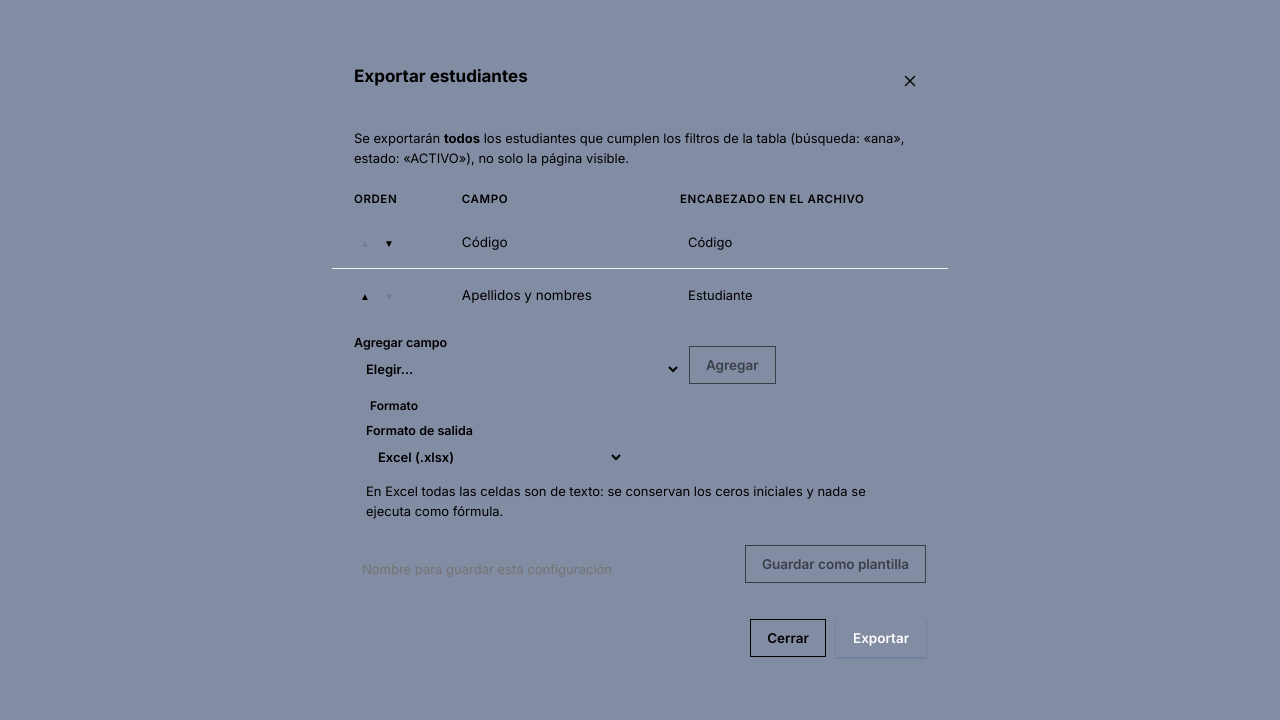
Exportación › parte de las columnas de la tabla, permite agregar, reordenar, renombrar y elegir formato; usa los filtros de la tabla
Expected: the field showing "Estudiante" is shown, [680,281,884,309]
Expected: the text "búsqueda: «ana», estado: «ACTIVO»" is shown, [354,130,905,166]
Select "Acciones (columna vacía de compatibilidad)" in the dropdown labelled "Agregar campo" at (518, 369), box [354,354,681,384]
Click the button "Agregar".
click(732, 365)  # box [689,346,776,384]
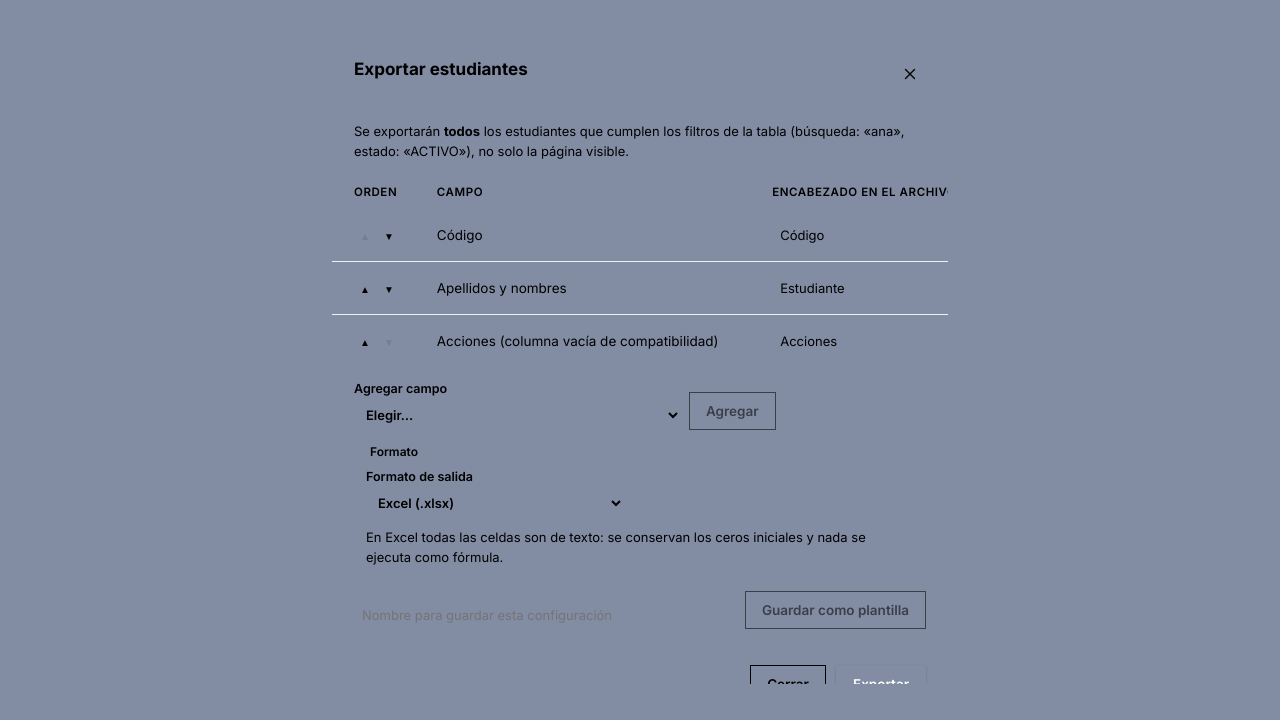
Click the button named "Subir Apellidos y nombres".
click(365, 289)  # box [354,282,376,296]
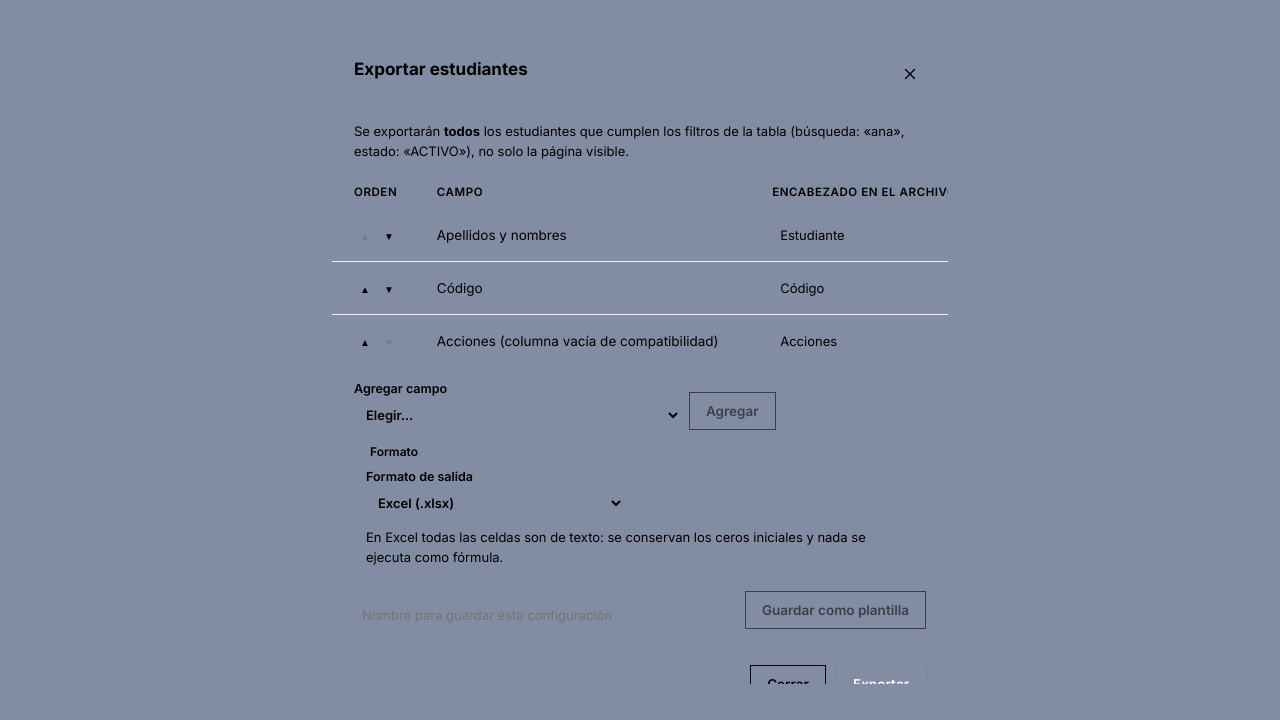
Replace the text in the field named "Encabezado de Código" with "Cód." at (874, 288), box [772,274,976,302]
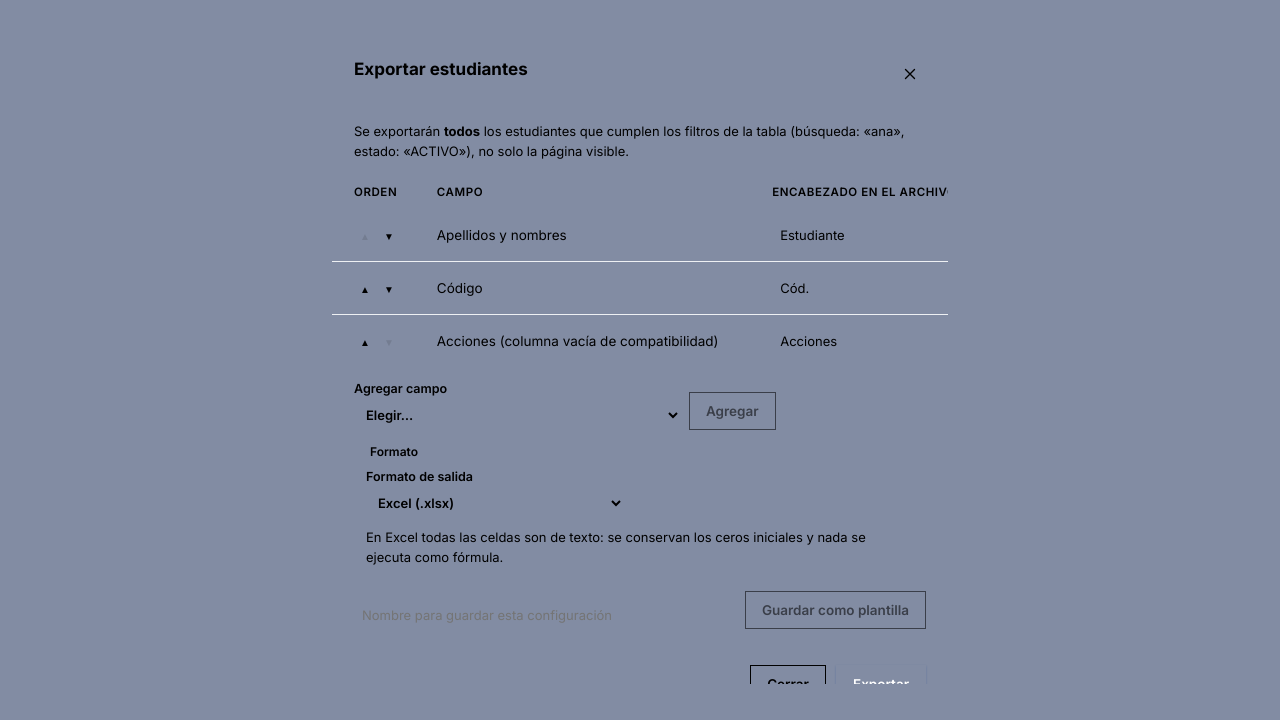
Select "CSV (.csv)" in the dropdown labelled "Formato de salida" at (495, 503), box [366,488,624,518]
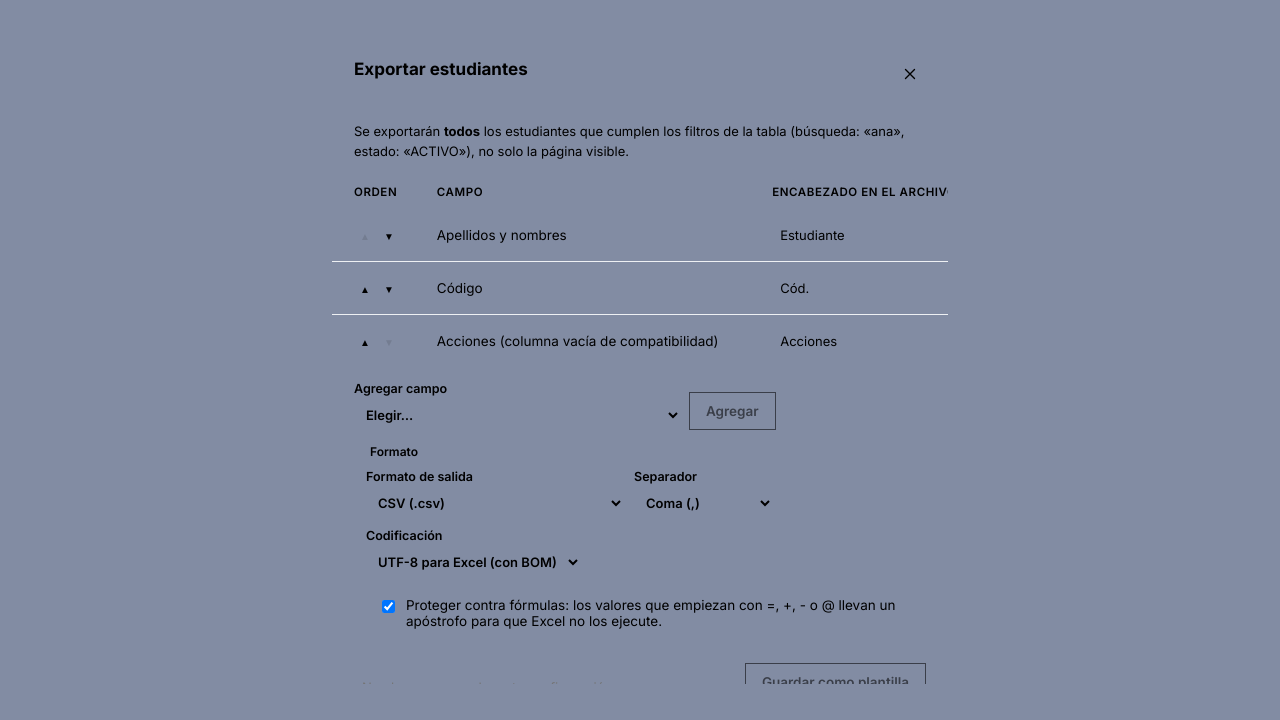
Select "Punto y coma (;)" in the dropdown labelled "Separador" at (704, 503), box [634,488,773,518]
(page scrolled)
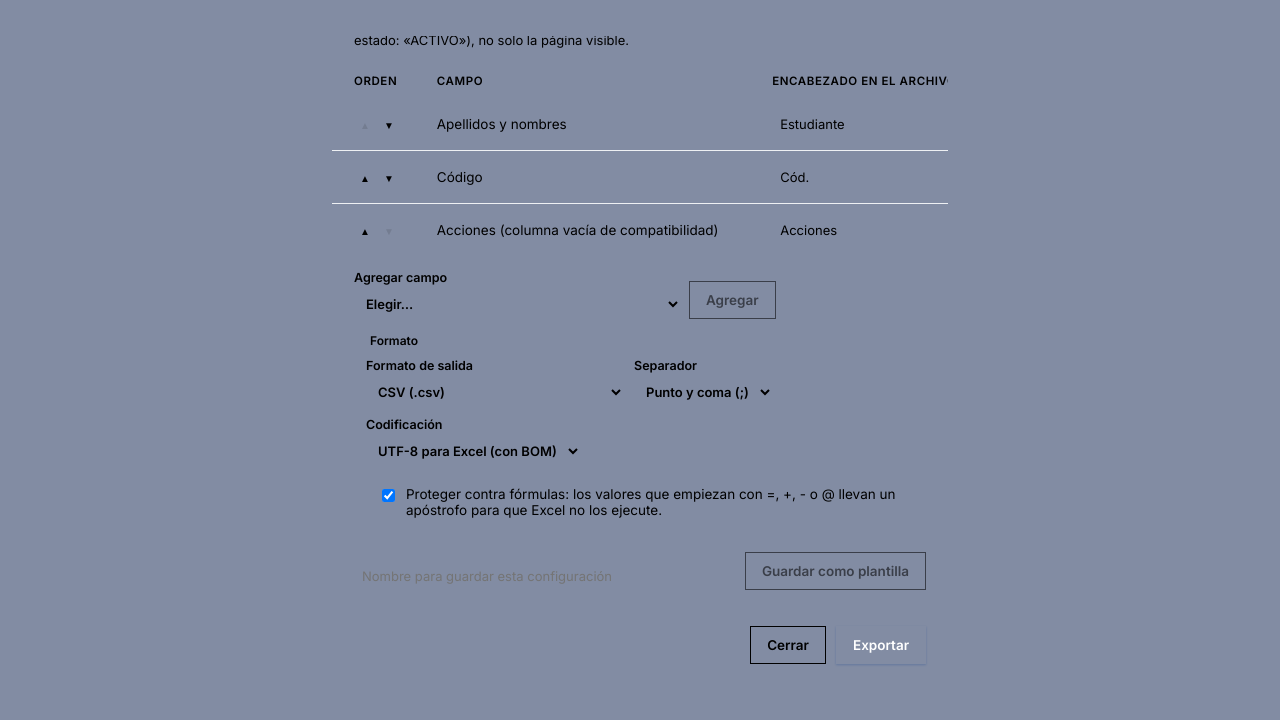
Click the button "Exportar".
click(881, 645)  # box [836,626,926,664]
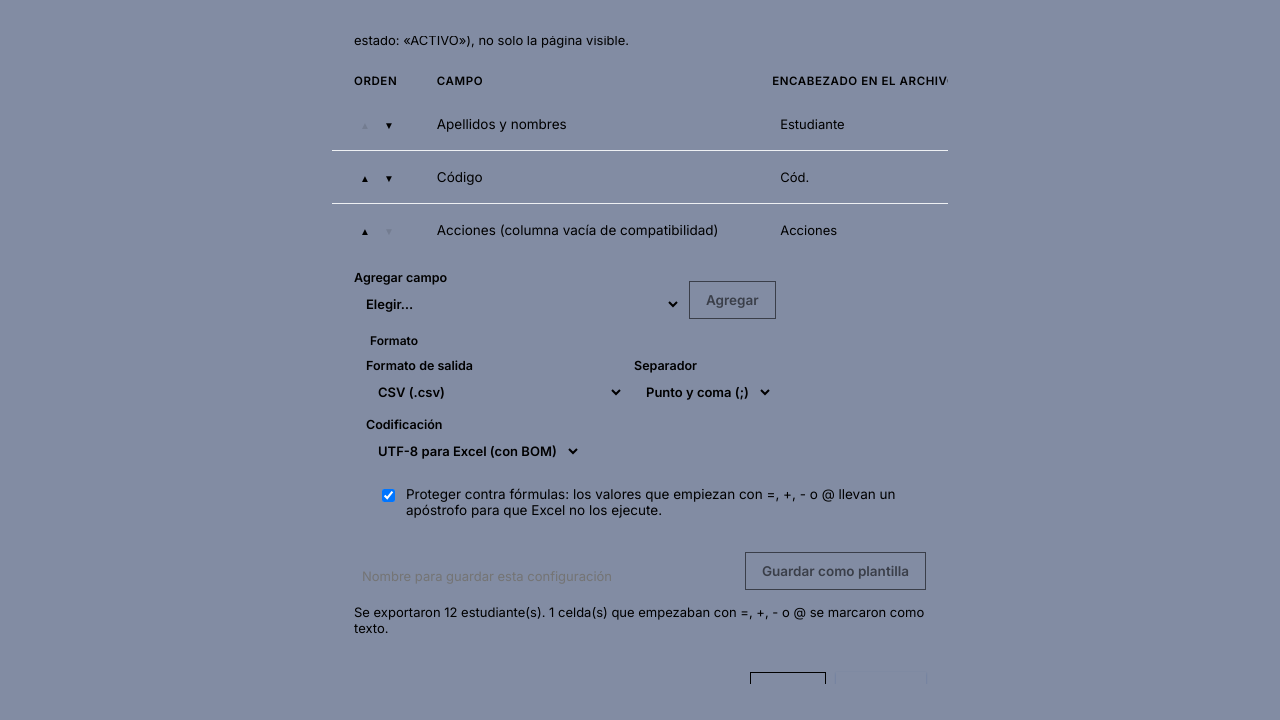
Now the text "Se exportaron 12 estudiante(s). 1 celda" is shown, box [354,604,924,636]
